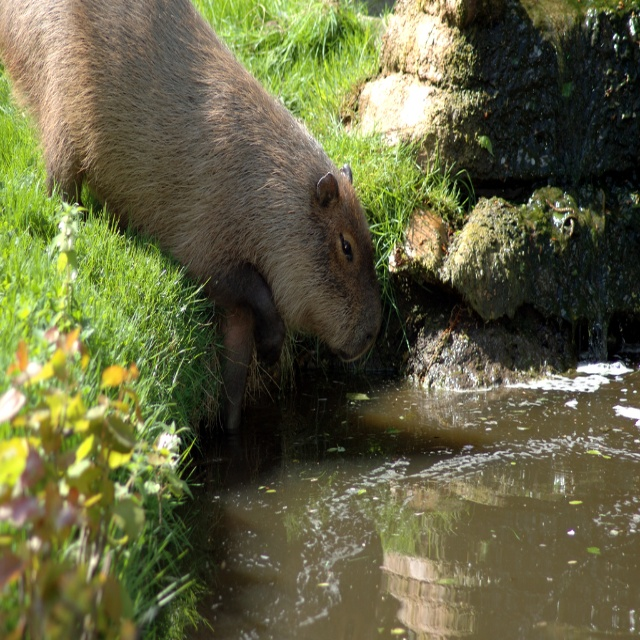Otter: (0, 0, 382, 429)
